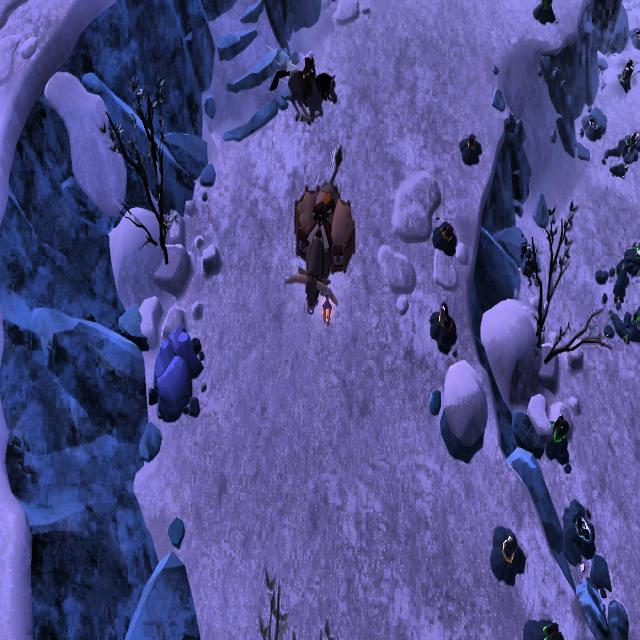ore_t3: (618, 56, 634, 94), (551, 414, 569, 447), (540, 617, 565, 640), (539, 0, 556, 21)
rock_t4: (146, 325, 202, 425)
